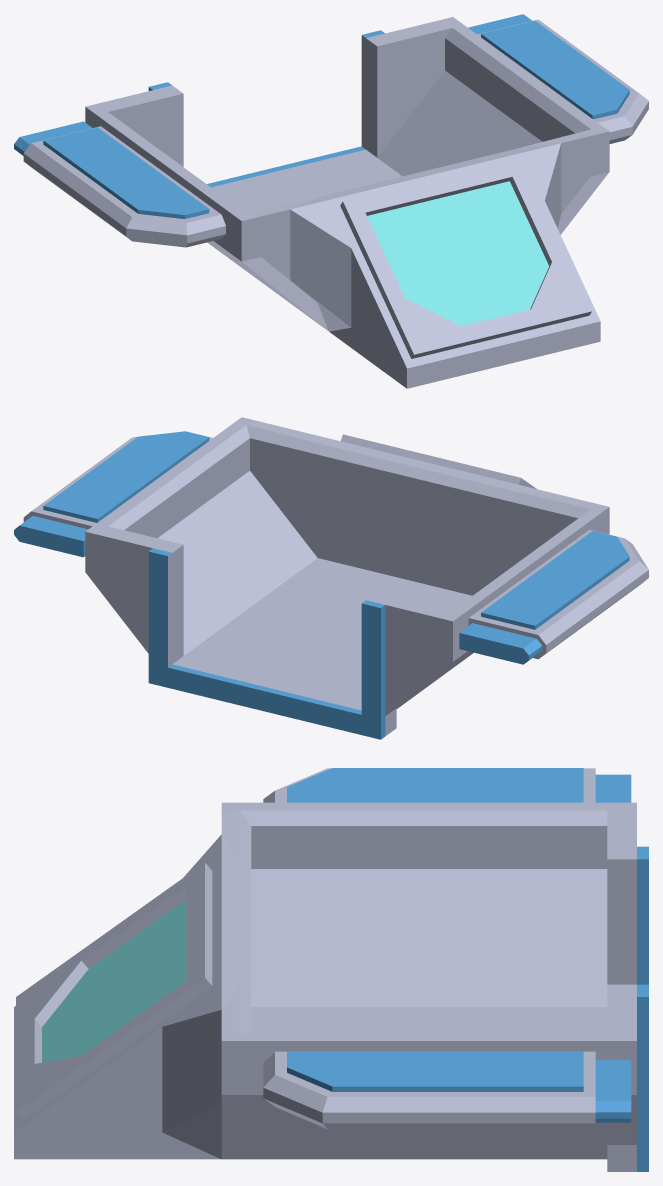
The picture shows the model from 3 angles, top to bottom: view 1: azimuth 30°, elevation 25°; view 2: azimuth 150°, elevation 25°; view 3: azimuth 270°, elevation 25°; orthographic projection. The views are drawn at different scales.
Visible parts, largest first — view 1: Cube; view 2: Cube; view 3: Cube.
Part boxes in pixels (x1,y1,x2,y2): Cube: (14, 14, 648, 388); Cube: (14, 417, 648, 739); Cube: (14, 768, 648, 1171).
Bounding box in the file's own units: 6.75 × 1.64 × 5.35.
